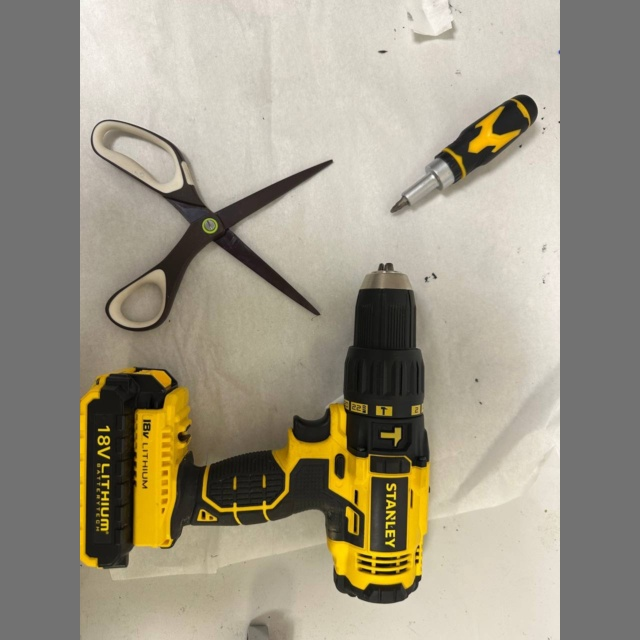drill: (82, 265, 429, 604)
scissor: (91, 120, 333, 330)
screwdriver: (391, 94, 538, 213)
